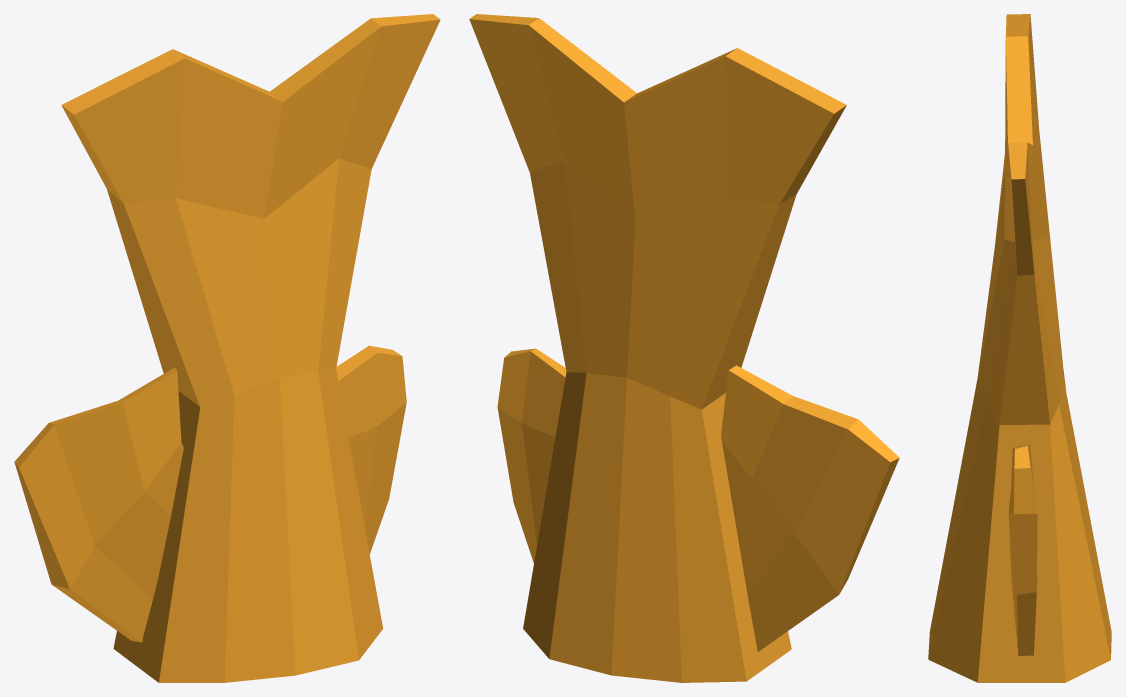
Rendered from SM_Fish_Tail_Fantasy.fbx.
The picture shows the model from 3 angles, left to right: view 1: azimuth 30°, elevation 25°; view 2: azimuth 150°, elevation 25°; view 3: azimuth 270°, elevation 25°; orthographic projection. The views are drawn at different scales.
Visible parts, largest first — view 1: fish-tail-fantasy; view 2: fish-tail-fantasy; view 3: fish-tail-fantasy.
Part boxes in pixels (box(x1,y1,x2,y2)): fish-tail-fantasy: box(14, 14, 440, 682); fish-tail-fantasy: box(469, 14, 899, 682); fish-tail-fantasy: box(928, 14, 1111, 682).
Size of the model in its own units: 0.1711 by 0.2341 by 0.069.
